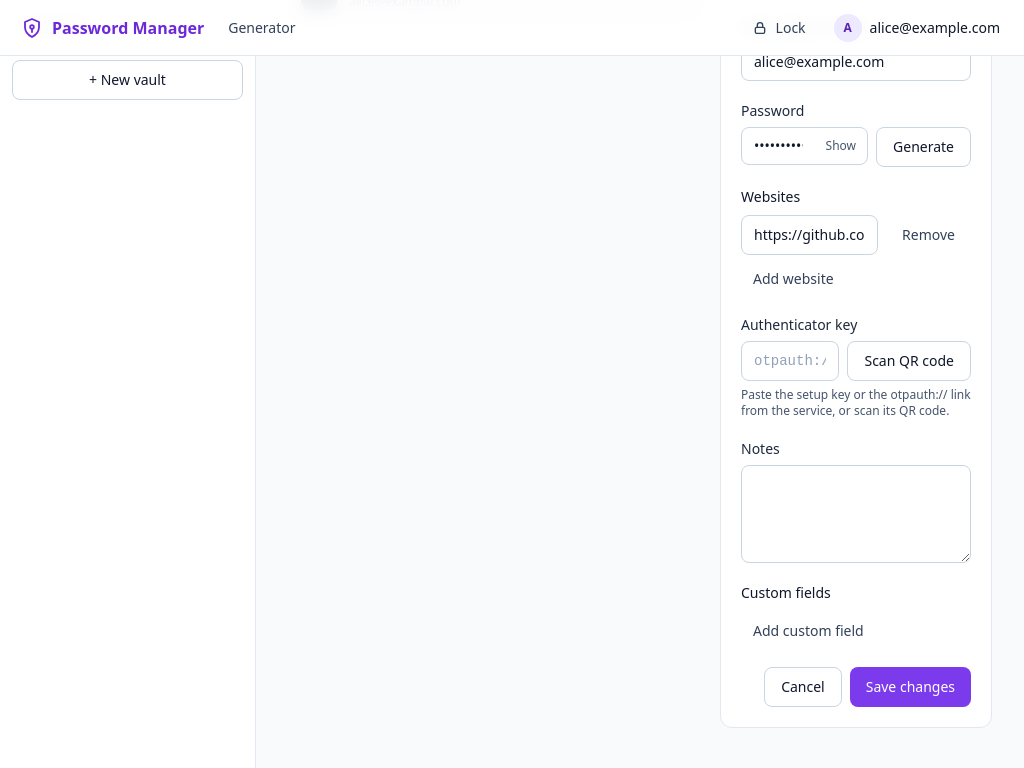
Test: edit item › explains a rotation_pending rejection and refreshes
(page scrolled)
Click the button "Save changes".
click(910, 687)  # box [850,667,971,707]
(page scrolled)
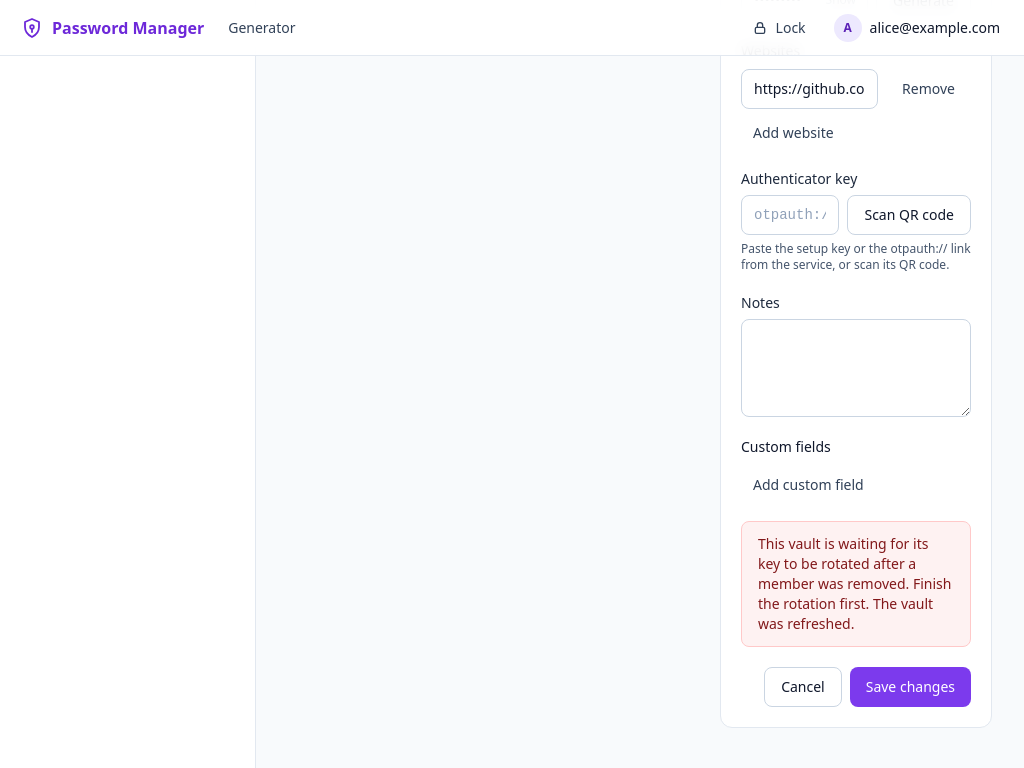
expect the text "waiting for its key to be rotated" is shown: met, box [758,534,951,633]
